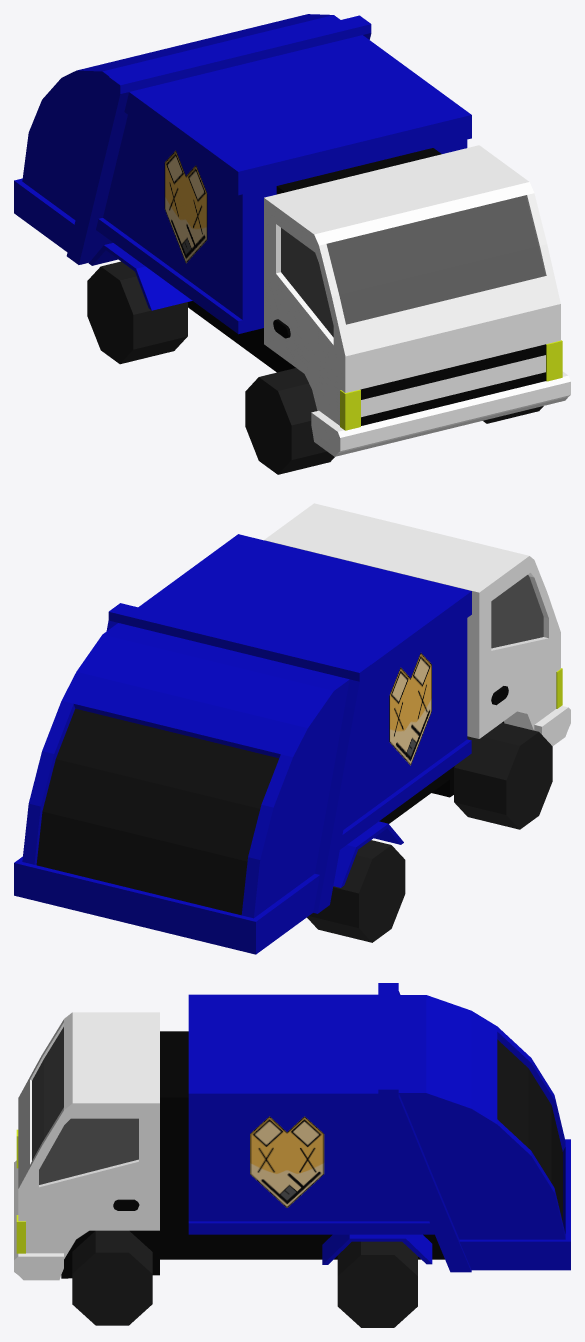
File: GarbageTruck.obj
3 renders of one model, top to bottom at view 1: azimuth 30°, elevation 25°; view 2: azimuth 150°, elevation 25°; view 3: azimuth 270°, elevation 25°, orthographic. The views are drawn at different scales.
Parts seen in each view (by area): view 1: GarbageTruck, Wheel.001, Wheel, FoxDecals.001; view 2: GarbageTruck, Wheel, Wheel.001, FoxDecals.001; view 3: GarbageTruck, Wheel, Wheel.001, FoxDecals.
Boxes of the visible parts, left/top/right/bottom form: GarbageTruck: left=14, top=14, right=570, bottom=456; Wheel.001: left=87, top=261, right=187, bottom=364; Wheel: left=245, top=368, right=543, bottom=474; FoxDecals.001: left=164, top=150, right=207, bottom=263; GarbageTruck: left=14, top=503, right=570, bottom=954; Wheel: left=454, top=723, right=552, bottom=829; Wheel.001: left=307, top=840, right=405, bottom=942; FoxDecals.001: left=389, top=653, right=431, bottom=765; GarbageTruck: left=14, top=983, right=570, bottom=1280; Wheel: left=72, top=1230, right=152, bottom=1325; Wheel.001: left=337, top=1241, right=417, bottom=1327; FoxDecals: left=250, top=1116, right=324, bottom=1207.
Bounding box in the file's own units: 25.87 × 24.5 × 52.88.
